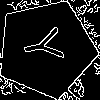Y: (21, 23, 74, 67)
